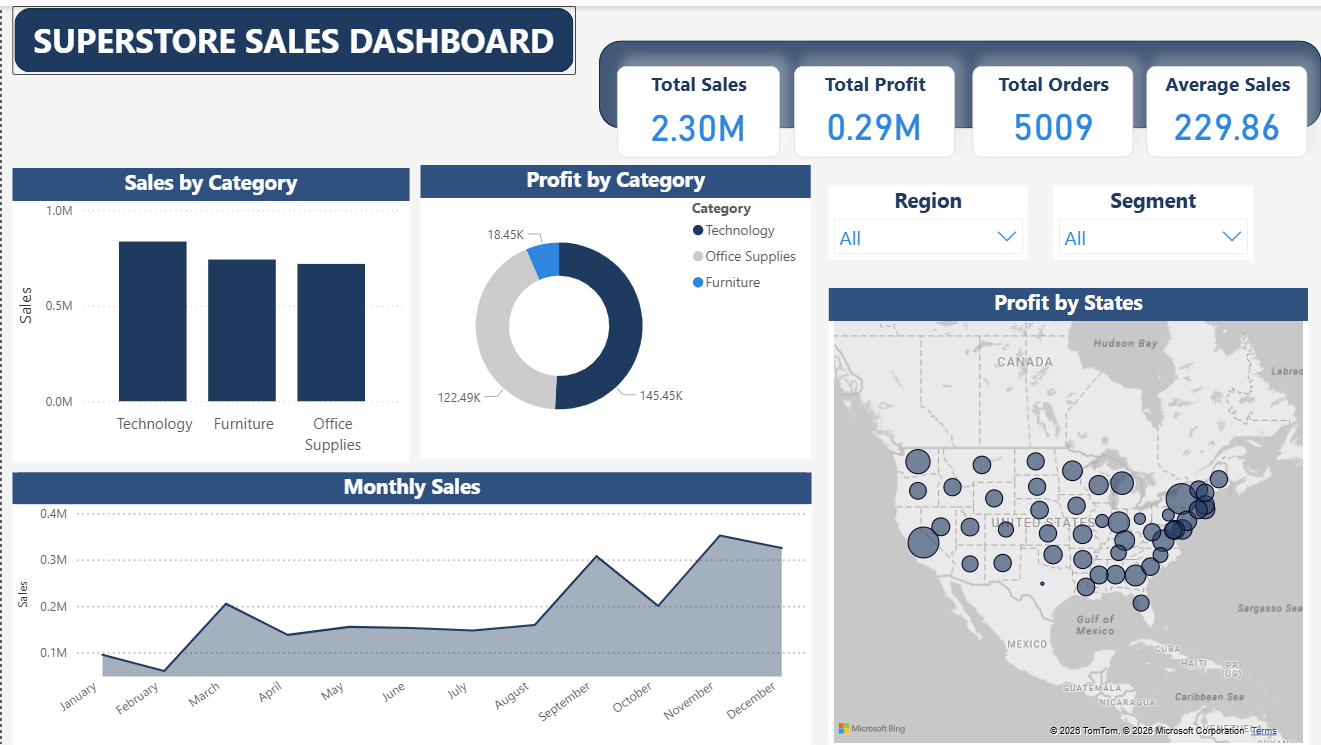

The dashboard page shown, as its layout file describes it:
{"tool":"powerbi","page":{"name":"Page 1","canvas":[1280,720],"ordinal":0},"visuals":[{"type":"shape","box":[10.6,0,546.6,66.6],"z":0},{"type":"shape","box":[579.5,33.2,701.1,85.3],"z":1000},{"type":"card","title":"Total Sales","fields":{"Values":["Sum(cleaned_superstore.Sales)"]},"box":[597,57.8,157.9,88.6],"z":2000},{"type":"card","title":"Total Profit","fields":{"Values":["Sum(cleaned_superstore.Profit)"]},"box":[769,58.4,156.3,88.4],"z":3000},{"type":"card","title":"Total Orders","fields":{"Values":["Count(cleaned_superstore.Order ID)"]},"box":[941.1,58.4,156.3,88.4],"z":4000},{"type":"card","title":"Average Sales","fields":{"Values":["Avg(cleaned_superstore.Sales)"]},"box":[1110,58.4,156.3,88.4],"z":5000},{"type":"clusteredColumnChart","title":"Sales by Category","fields":{"Category":["cleaned_superstore.Category"],"Y":["Sum(cleaned_superstore.Sales)"]},"box":[10,156.7,385,285],"z":6000},{"type":"donutChart","title":"Profit by Category","fields":{"Category":["cleaned_superstore.Category"],"Y":["Sum(cleaned_superstore.Profit)"]},"box":[406.7,155,378.3,285],"z":7000},{"type":"slicer","title":"Region","fields":{"Values":["cleaned_superstore.Region"]},"box":[801.7,175,193.3,71.7],"z":8000},{"type":"areaChart","title":"Monthly Sales","fields":{"Y":["Sum(cleaned_superstore.Sales)"],"Category":["cleaned_superstore.Order Date.Variation.Date Hierarchy.Month"]},"box":[10,453.3,775,265],"z":9000},{"type":"map","title":"Profit by States","fields":{"Size":["Sum(cleaned_superstore.Profit)"],"Category":["cleaned_superstore.State"]},"box":[801.7,273.3,465,446.7],"z":10000},{"type":"slicer","title":"Segment","fields":{"Values":["cleaned_superstore.Segment"]},"box":[1020,175,193.3,71.7],"z":11000}]}

Visuals, with their boxes in screenshot pixels (x1, y1, x2, y2), scaled from the page's 1280x720 canvas onto the 1321x745 screenshot:
shape: 11/0/575/69
shape: 598/34/1320/123
"Total Sales" card: 616/60/779/151
"Total Profit" card: 794/60/955/152
"Total Orders" card: 971/60/1133/152
"Average Sales" card: 1146/60/1307/152
"Sales by Category" clusteredColumnChart: 10/162/408/457
"Profit by Category" donutChart: 420/160/810/455
"Region" slicer: 827/181/1027/255
"Monthly Sales" areaChart: 10/469/810/743
"Profit by States" map: 827/283/1307/744
"Segment" slicer: 1053/181/1252/255
